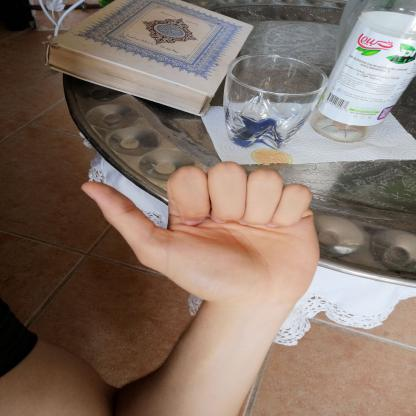DAD: (66, 151, 331, 316)
